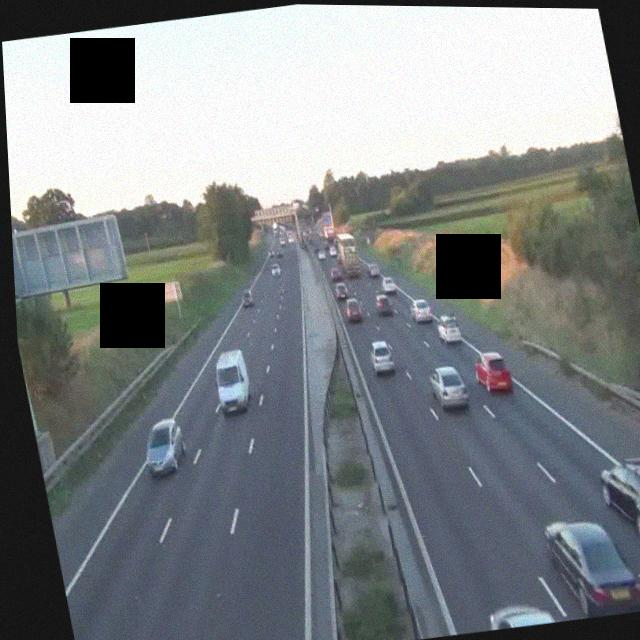bus: (336, 231, 365, 279)
car: (541, 511, 640, 623), (597, 452, 640, 550), (139, 417, 191, 477), (209, 348, 256, 414), (486, 598, 566, 631), (427, 363, 471, 412), (470, 349, 515, 396), (368, 339, 397, 377), (435, 314, 463, 346), (409, 297, 435, 325), (343, 299, 364, 324), (374, 292, 395, 316), (382, 276, 399, 296), (334, 281, 350, 302), (241, 288, 256, 307), (367, 262, 382, 280), (270, 263, 282, 277), (317, 249, 327, 261), (266, 247, 275, 259)
